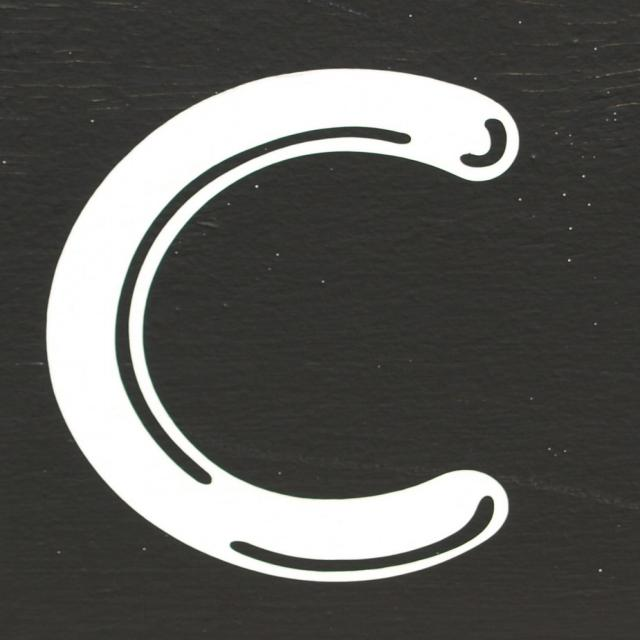C: (31, 23, 572, 600)
